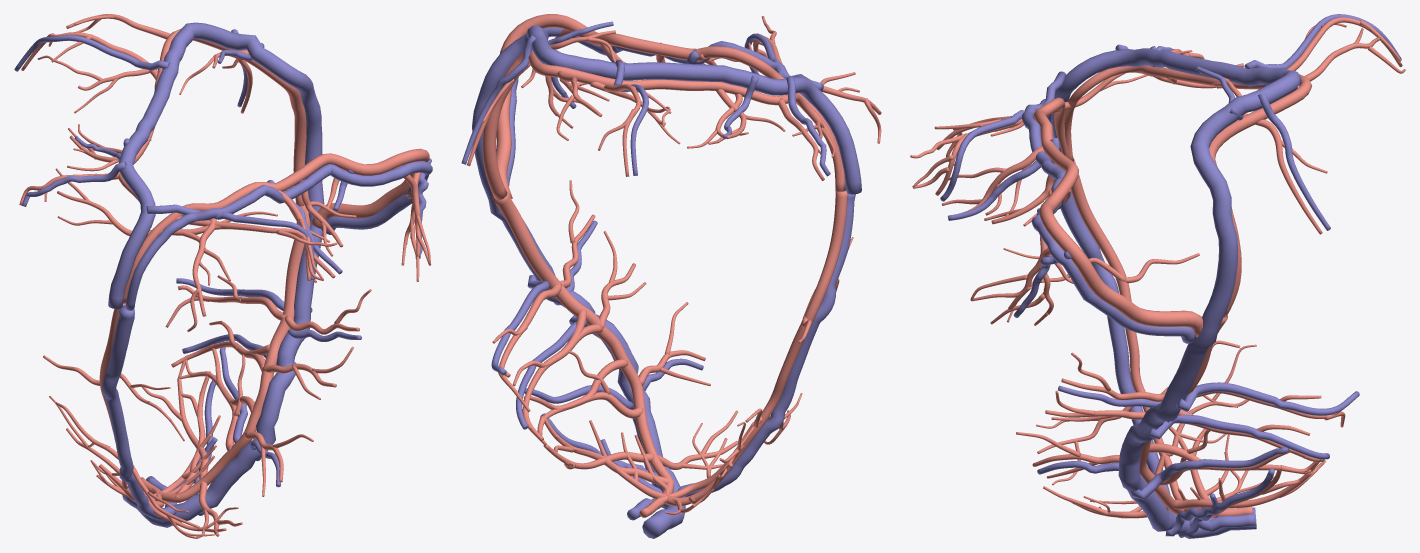
File: vessels_61.glb
3 renders of one model, left to right at view 1: azimuth 30°, elevation 25°; view 2: azimuth 150°, elevation 25°; view 3: azimuth 270°, elevation 25°, orthographic. The views are drawn at different scales.
Parts seen in each view (by area): view 1: Renderer Node; view 2: Renderer Node; view 3: Renderer Node.
Boxes of the visible parts, box(x1,y1,x2,y2) form: Renderer Node: box(14, 14, 432, 538); Renderer Node: box(461, 14, 881, 538); Renderer Node: box(910, 14, 1405, 538).
Bounding box in the file's own units: 96.6 × 118 × 105.
